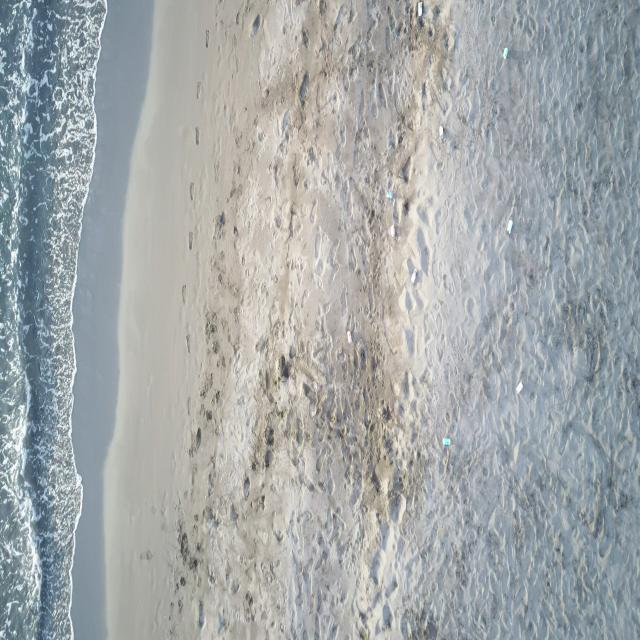Garbage: (198, 600, 203, 627), (387, 223, 395, 236), (515, 380, 522, 392), (416, 2, 422, 16), (411, 268, 416, 283), (439, 124, 444, 138), (347, 329, 351, 343), (508, 219, 512, 233), (387, 190, 392, 199), (443, 437, 448, 446), (504, 47, 507, 59)
